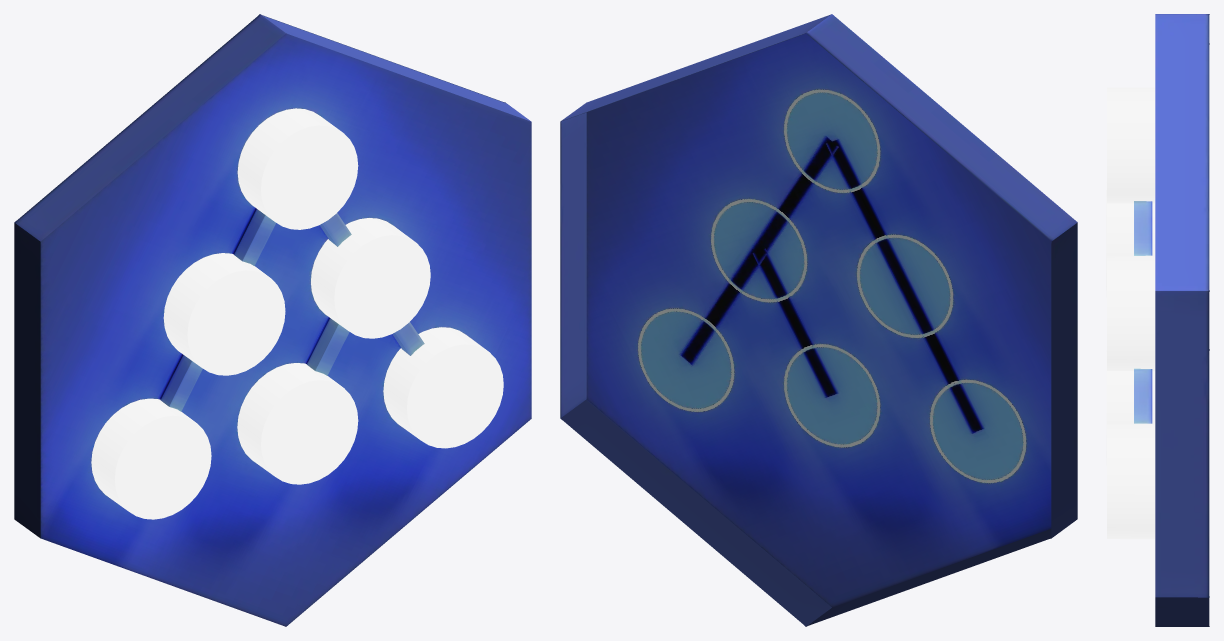
The model's file is binary_tree-transformed.glb.
The picture shows the model from 3 angles, left to right: view 1: azimuth 30°, elevation 25°; view 2: azimuth 150°, elevation 25°; view 3: azimuth 270°, elevation 25°; orthographic projection. The views are drawn at different scales.
Parts seen in each view (by area): view 1: Main-LR; view 2: Main-LR; view 3: Main-LR.
Boxes of the visible parts, x1,y1,x2,y2 form: Main-LR: (14,14,531,626); Main-LR: (560,14,1077,626); Main-LR: (1106,14,1209,626).
Bounding box in the file's own units: 10.1 × 11.66 × 1.78.
Materials: 2 (1 with a texture image).
